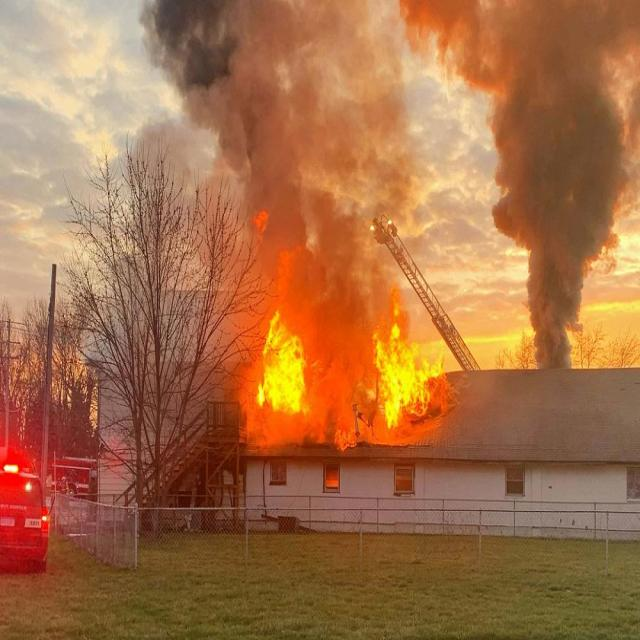fire: (235, 215, 451, 456)
